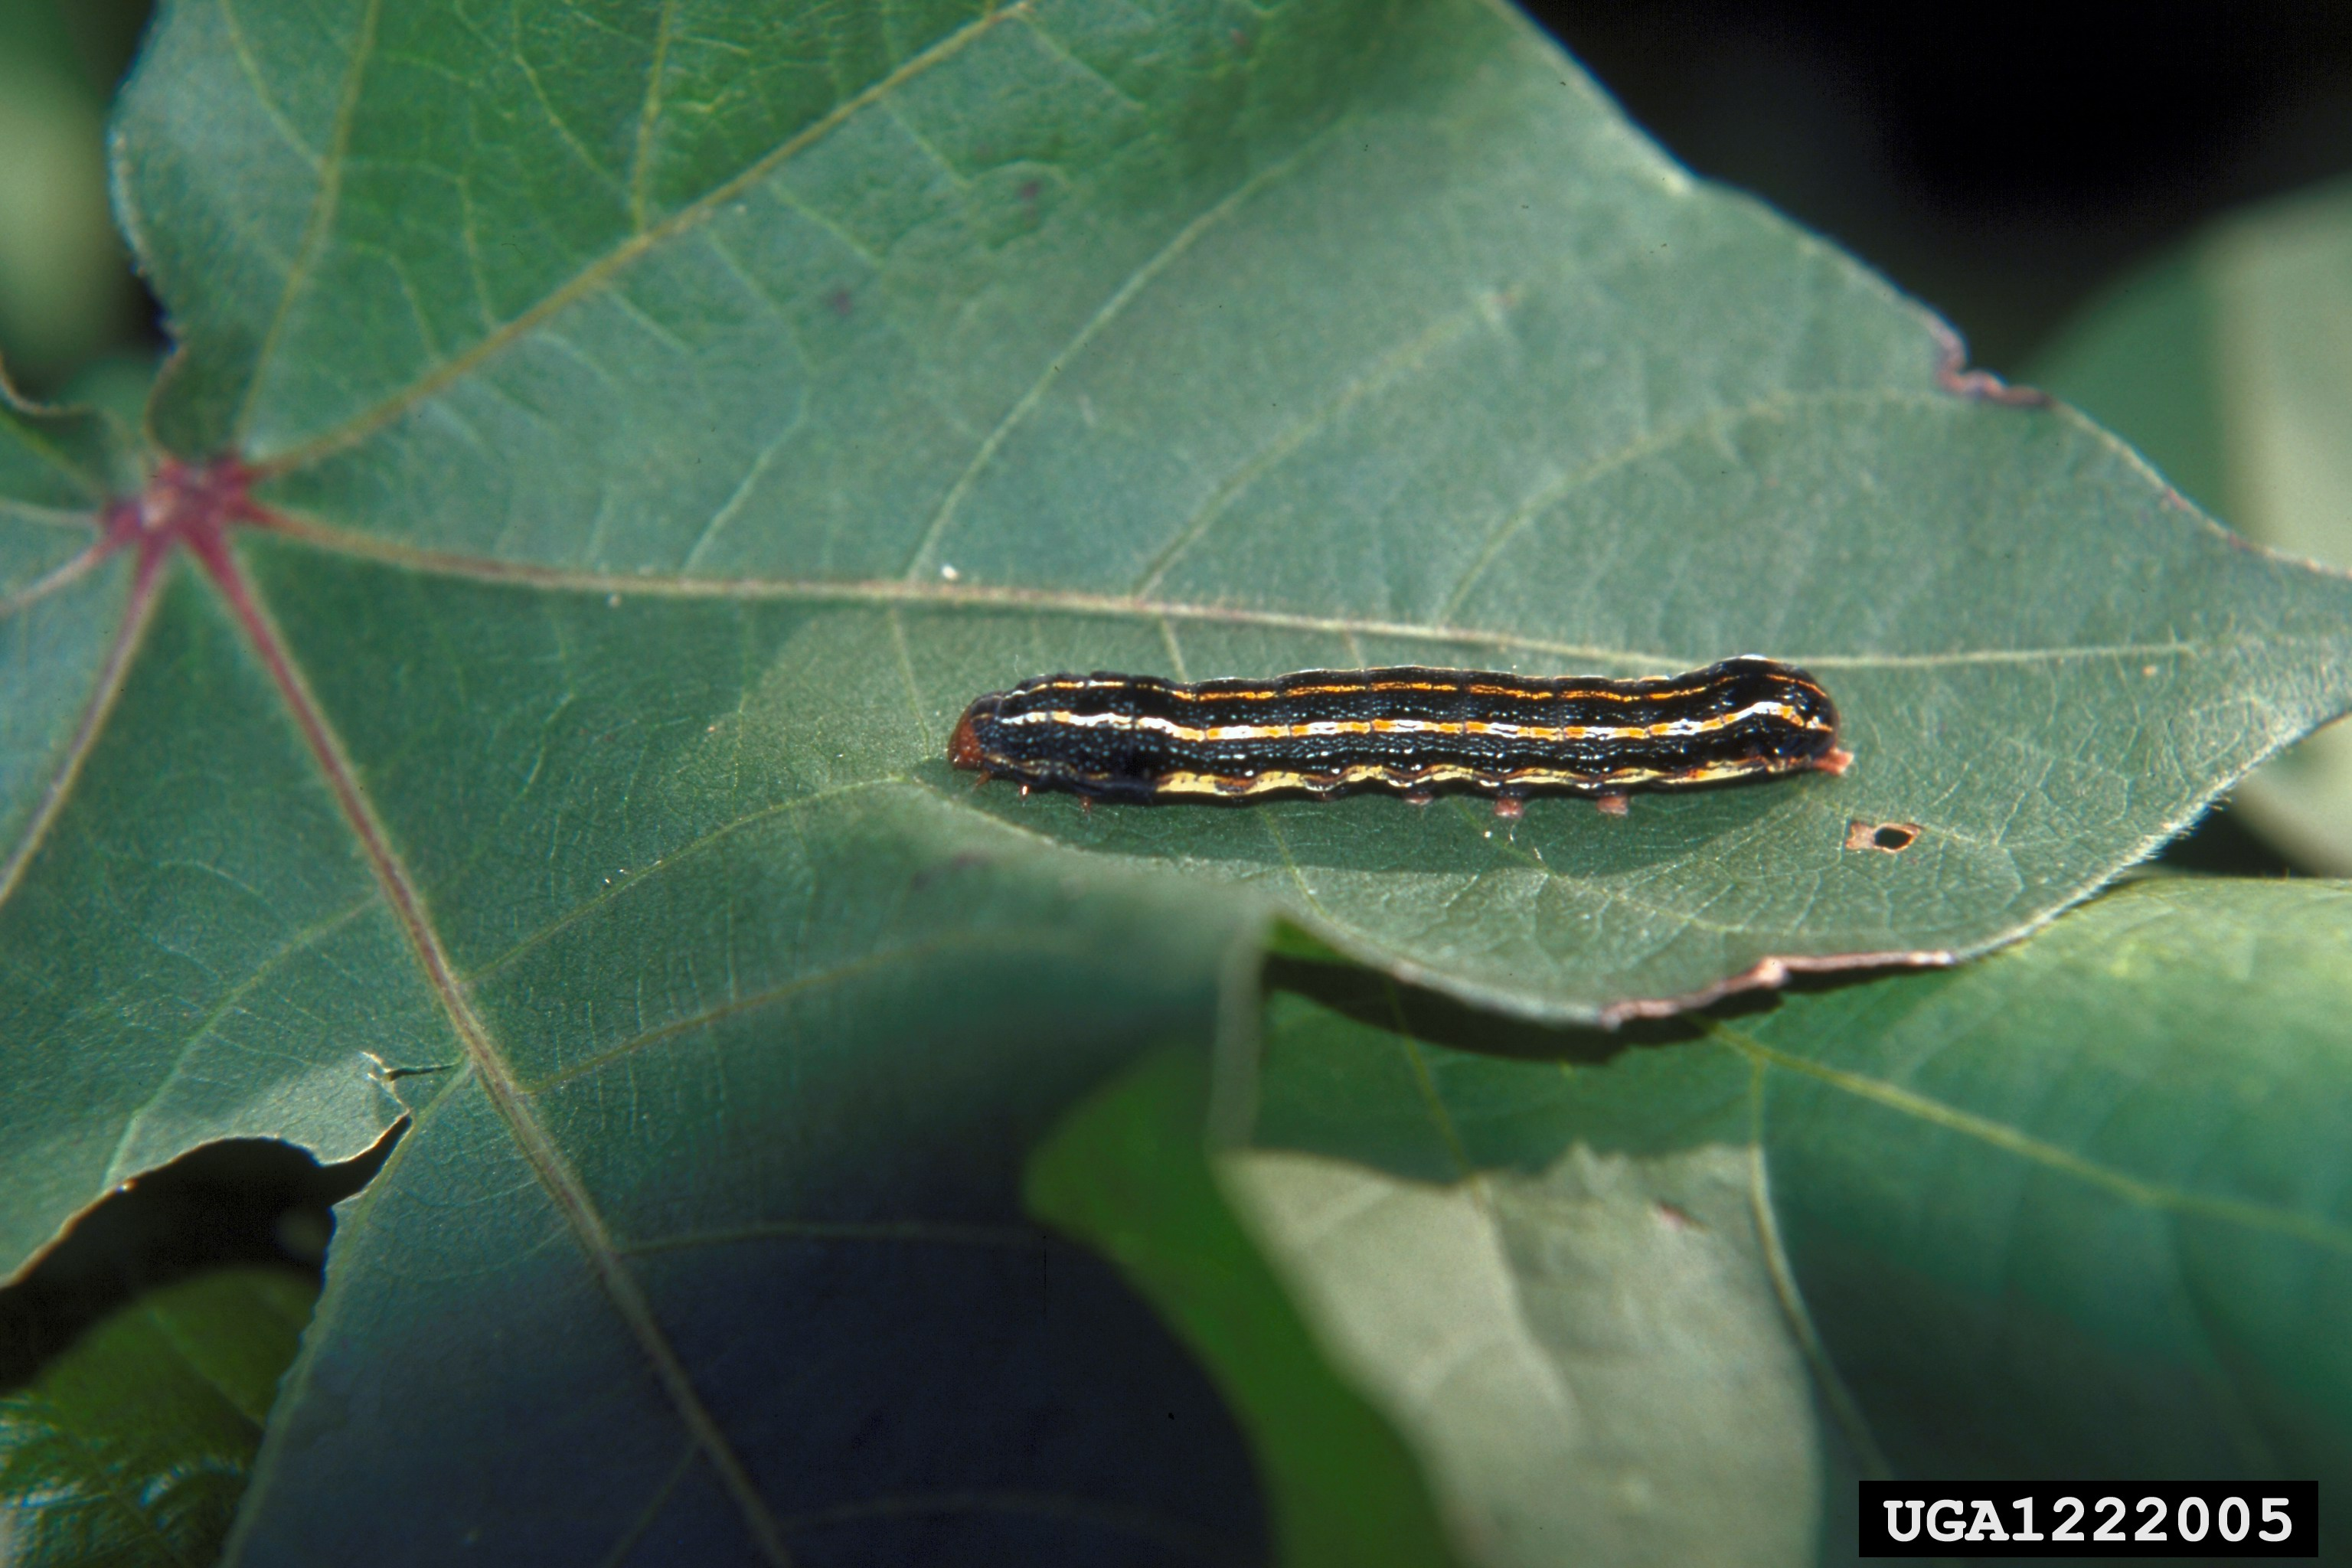Armyworm: (946, 613, 1873, 938)
